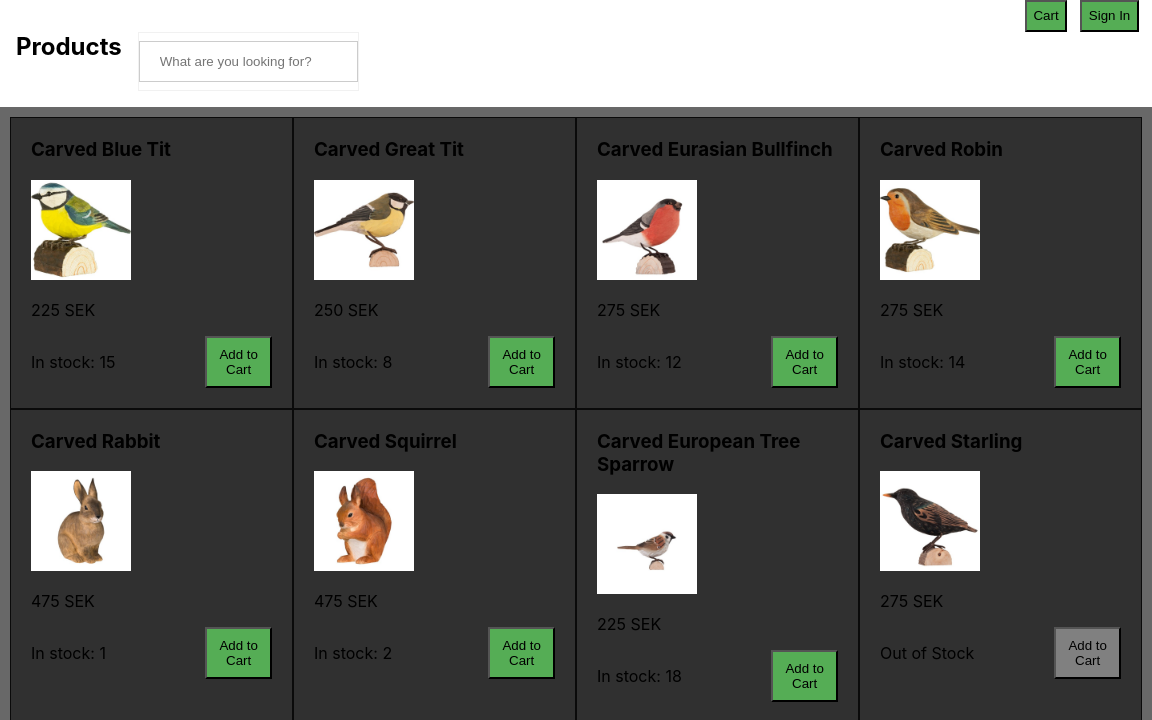
it: ProductList component › informs the user if the username is incorrect
Click the button "Sign In" at (1110,16), box [1080,0,1139,32]
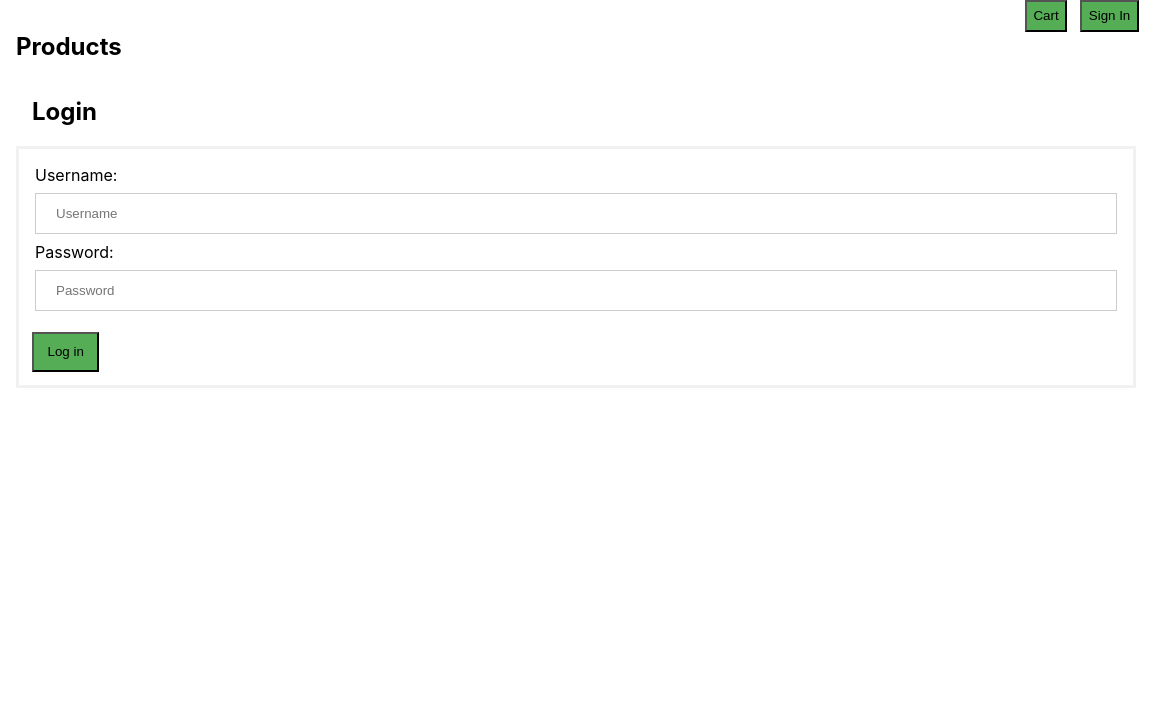
Type "wronguser" into the field with test id "username-input" at (576,213), box [35,193,1117,234]
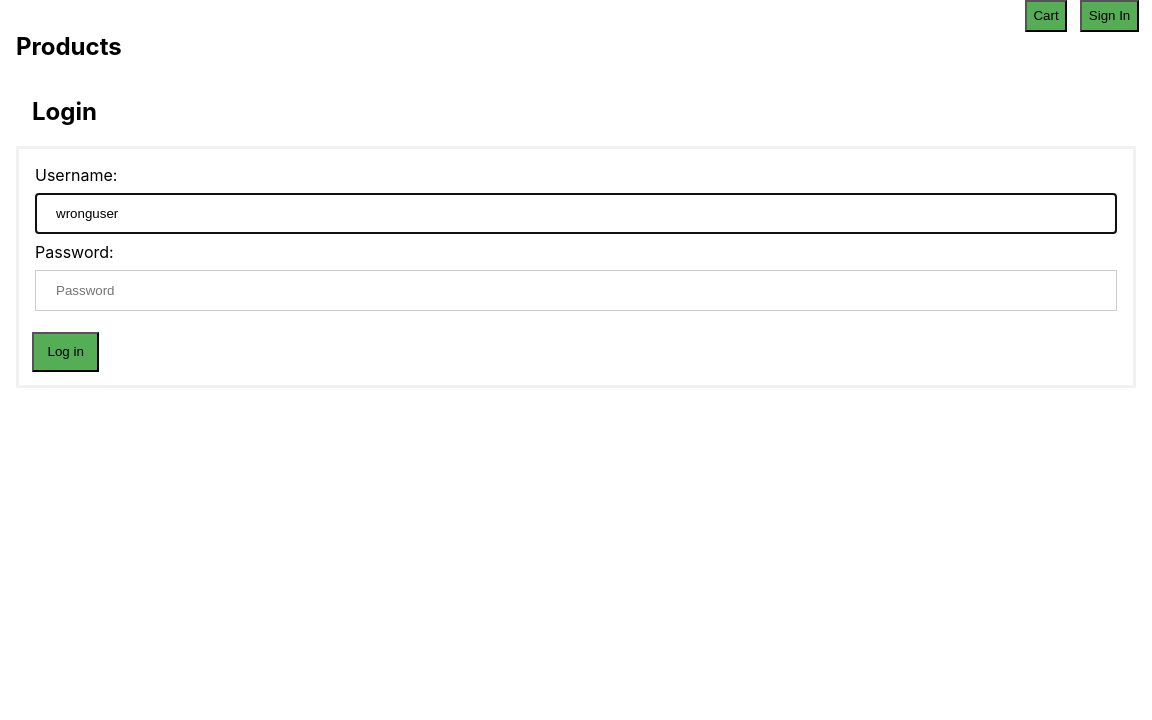
Type "wrongpw" into the password field with test id "password-input" at (576,290), box [35,270,1117,311]
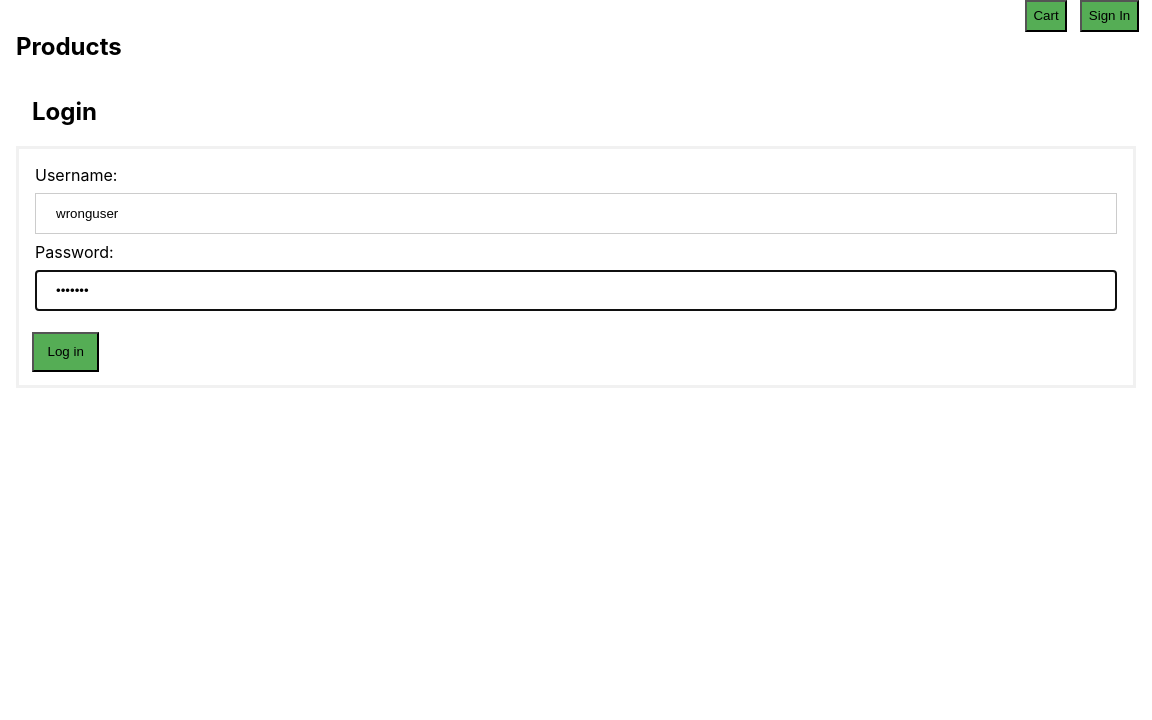
Click the button "Log in" at (66,352), box [32,332,99,372]
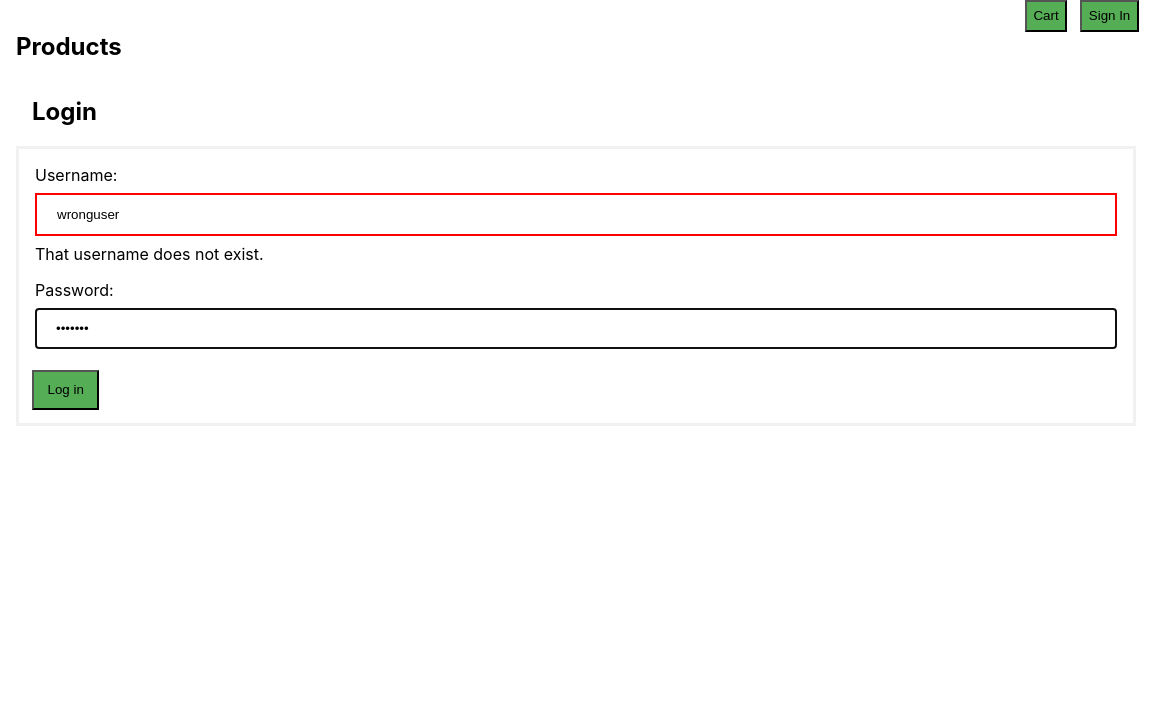
Check: the text "That username does not exist." is shown, box [35,244,264,264]
